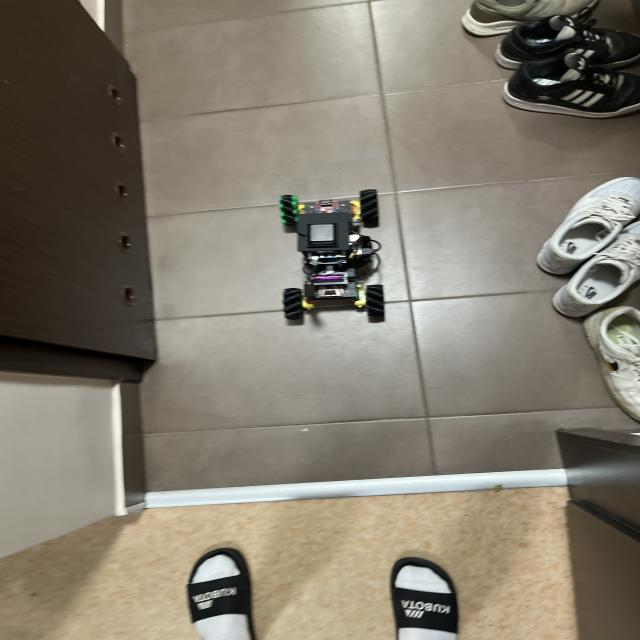robot: (279, 189, 384, 321)
